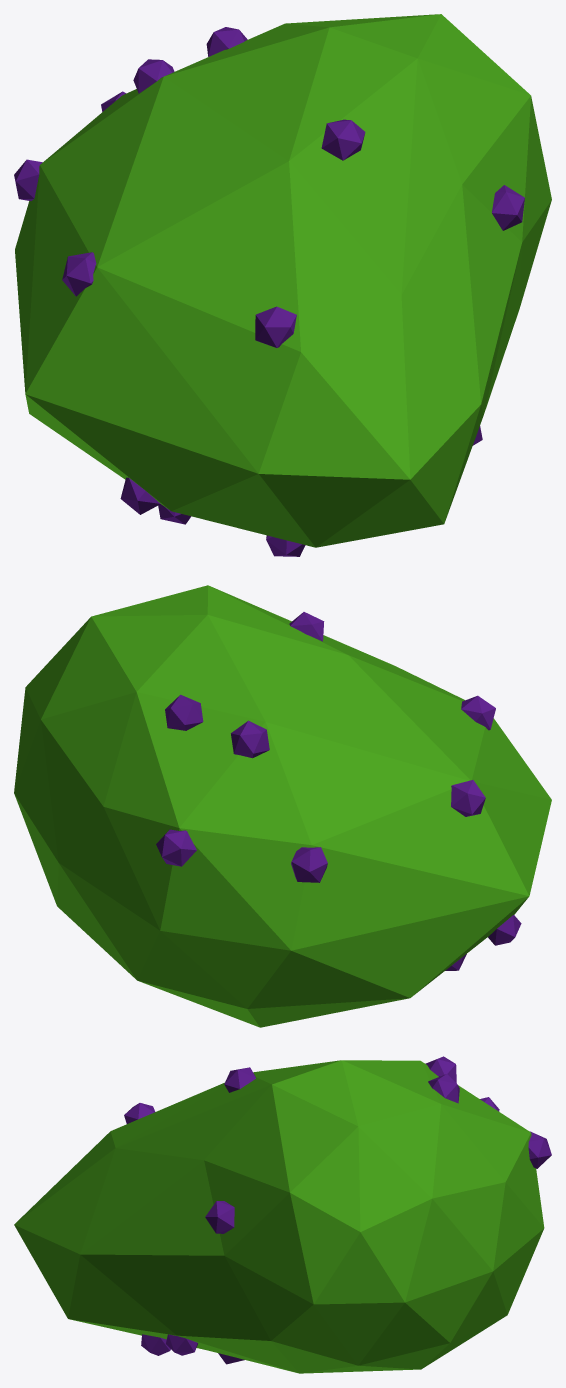
The model's file is Bush02_Brombeere.fbx.
3 views of the same model, one above another, from view 1: azimuth 30°, elevation 25°; view 2: azimuth 150°, elevation 25°; view 3: azimuth 270°, elevation 25° (orthographic). The views are drawn at different scales.
Parts seen in each view (by area): view 1: Bush02_Berry; view 2: Bush02_Berry; view 3: Bush02_Berry.
Part boxes in pixels (x1,y1,x2,y2): Bush02_Berry: (14, 14, 551, 556); Bush02_Berry: (14, 585, 551, 1027); Bush02_Berry: (14, 1056, 551, 1373).
Size of the model in its own units: 320 by 236 by 349.
